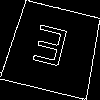E: (27, 24, 71, 76)
